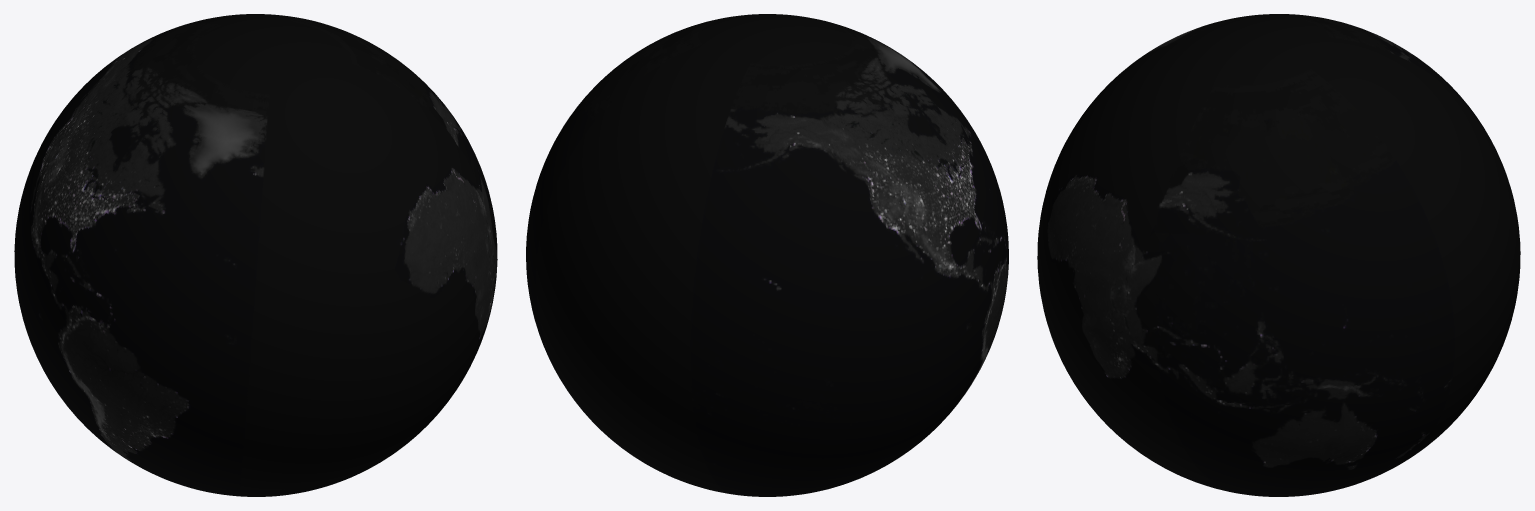
File: map.gltf
The picture shows the model from 3 angles, left to right: view 1: azimuth 30°, elevation 25°; view 2: azimuth 150°, elevation 25°; view 3: azimuth 270°, elevation 25°; orthographic projection.
Visible parts, largest first — view 1: Earth; view 2: Earth; view 3: Earth.
Part boxes in pixels (<box>): Earth: <box>14,14,497,496</box>; Earth: <box>526,14,1008,496</box>; Earth: <box>1037,14,1520,496</box>.
Size of the model in its own units: 0.8091 by 0.8094 by 0.8093.
1 material, 1 textured.
